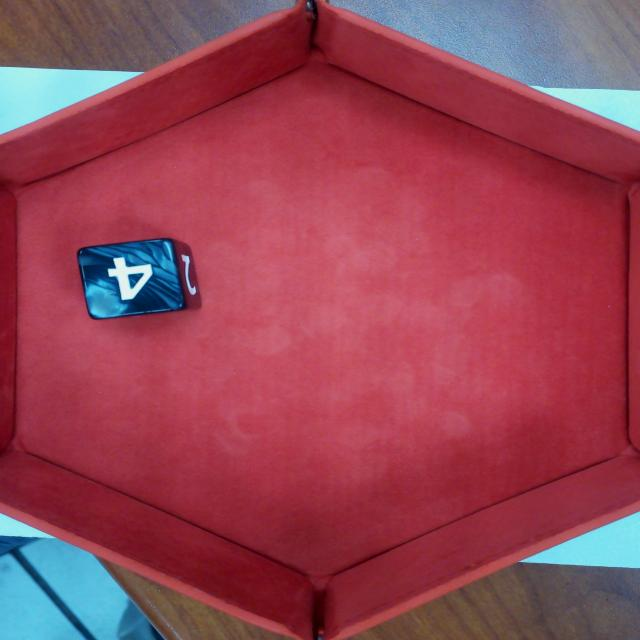dice: (71, 236, 191, 322)
